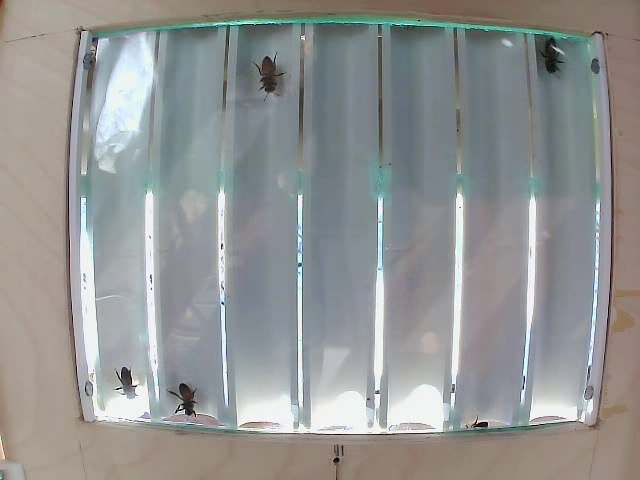bee: (246, 52, 289, 99), (536, 34, 573, 81), (165, 381, 200, 414)
